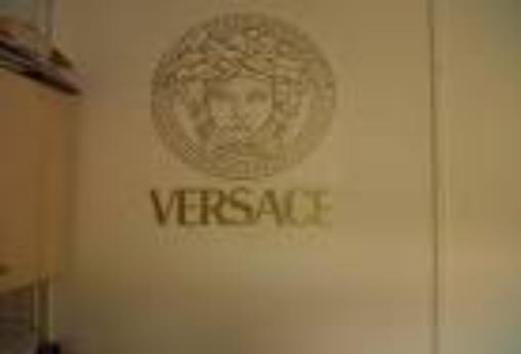VERSACE: (112, 11, 386, 244)
